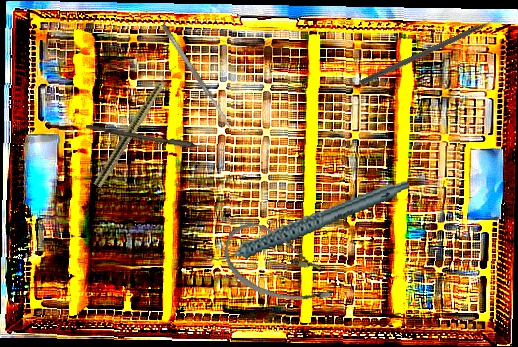Cannula: (215, 216, 346, 314)
Handpiece: (197, 179, 416, 266), (92, 61, 179, 190)
Hook Surgical: (359, 14, 505, 87)
Spatula Surgical: (160, 22, 233, 130)
Surgical Spoon: (85, 124, 232, 155)
